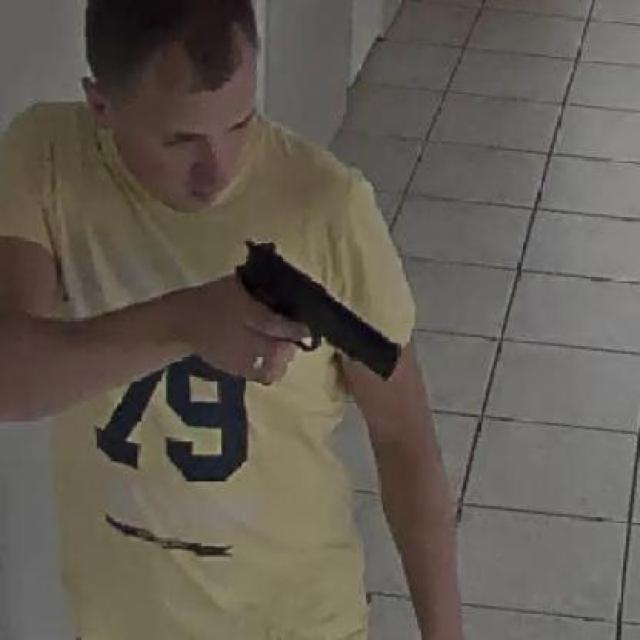gun: (221, 236, 404, 402)
